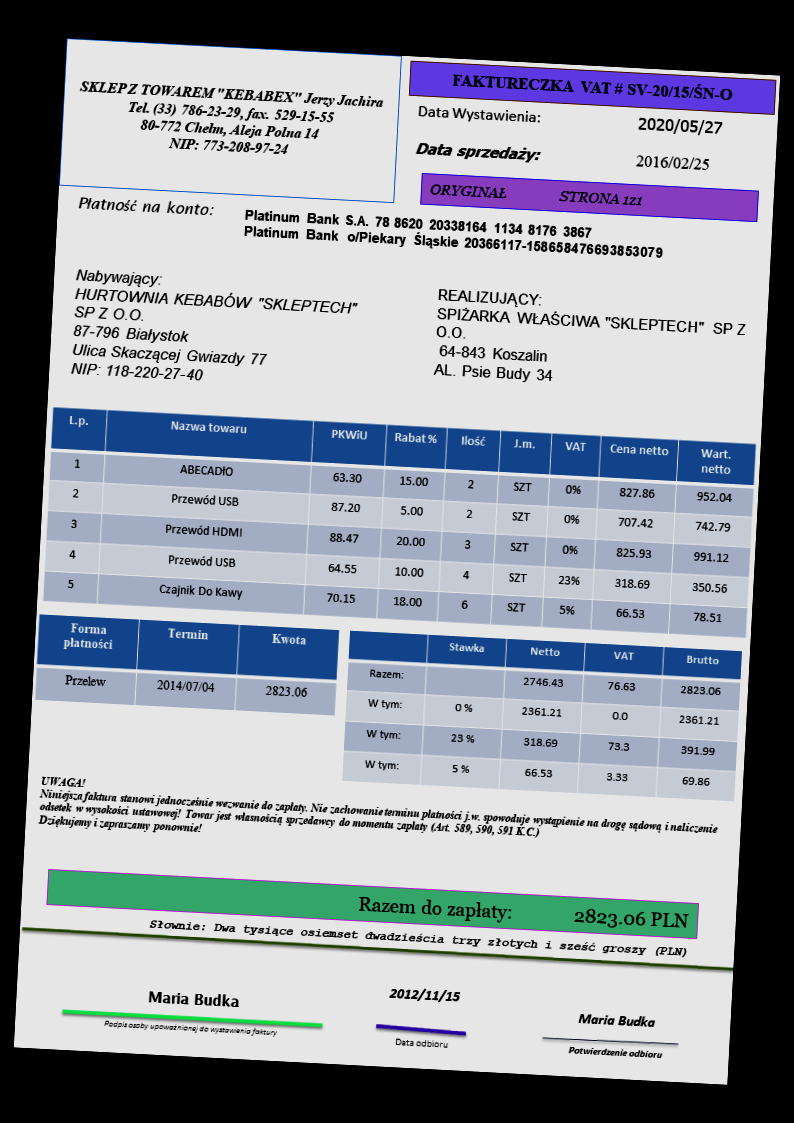Table: (41, 404, 757, 642), (339, 628, 744, 804), (34, 612, 342, 717)
TextBox: (36, 771, 720, 864), (69, 265, 362, 391), (430, 285, 750, 394), (73, 75, 385, 166), (242, 205, 669, 264), (144, 916, 689, 960), (353, 890, 691, 937), (450, 66, 739, 107), (427, 180, 645, 210), (100, 1017, 282, 1038), (76, 193, 214, 219), (413, 101, 543, 126), (413, 141, 543, 165), (635, 112, 726, 139), (144, 987, 244, 1011), (566, 1042, 665, 1062), (575, 1010, 659, 1031), (634, 152, 712, 172), (386, 984, 464, 1004), (391, 1034, 453, 1052)
